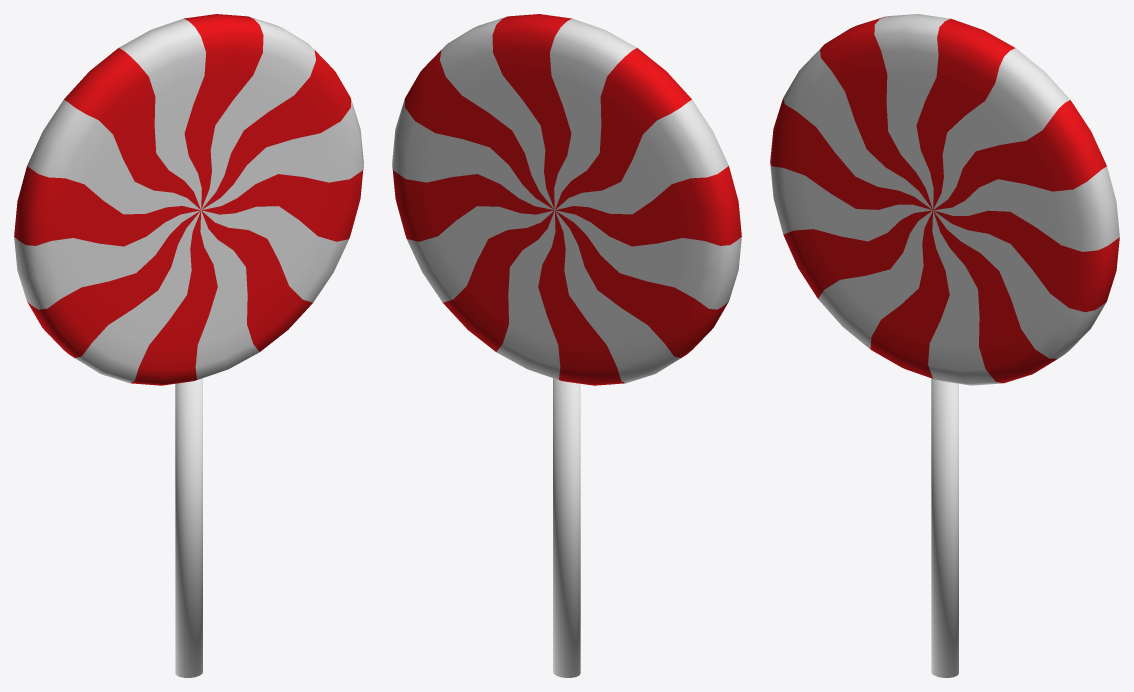
File: Lollipop.fbx
The picture shows the model from 3 angles, left to right: view 1: azimuth 30°, elevation 25°; view 2: azimuth 150°, elevation 25°; view 3: azimuth 330°, elevation 25°; orthographic projection.
Visible parts, largest first — view 1: Lollipop; view 2: Lollipop; view 3: Lollipop.
Part boxes in pixels (x1,y1,x2,y2): Lollipop: (14, 14, 363, 677); Lollipop: (392, 14, 741, 677); Lollipop: (770, 14, 1119, 677).
Size of the model in its own units: 35.58 by 65.14 by 4.36.
